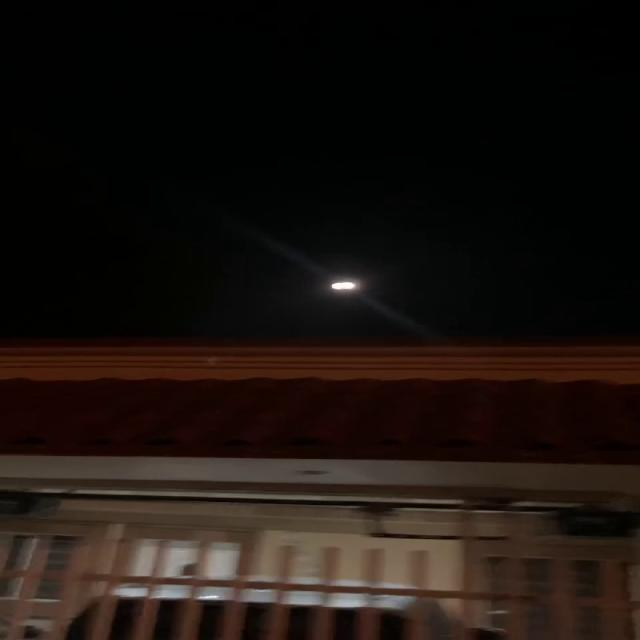moon: (313, 270, 391, 313)
